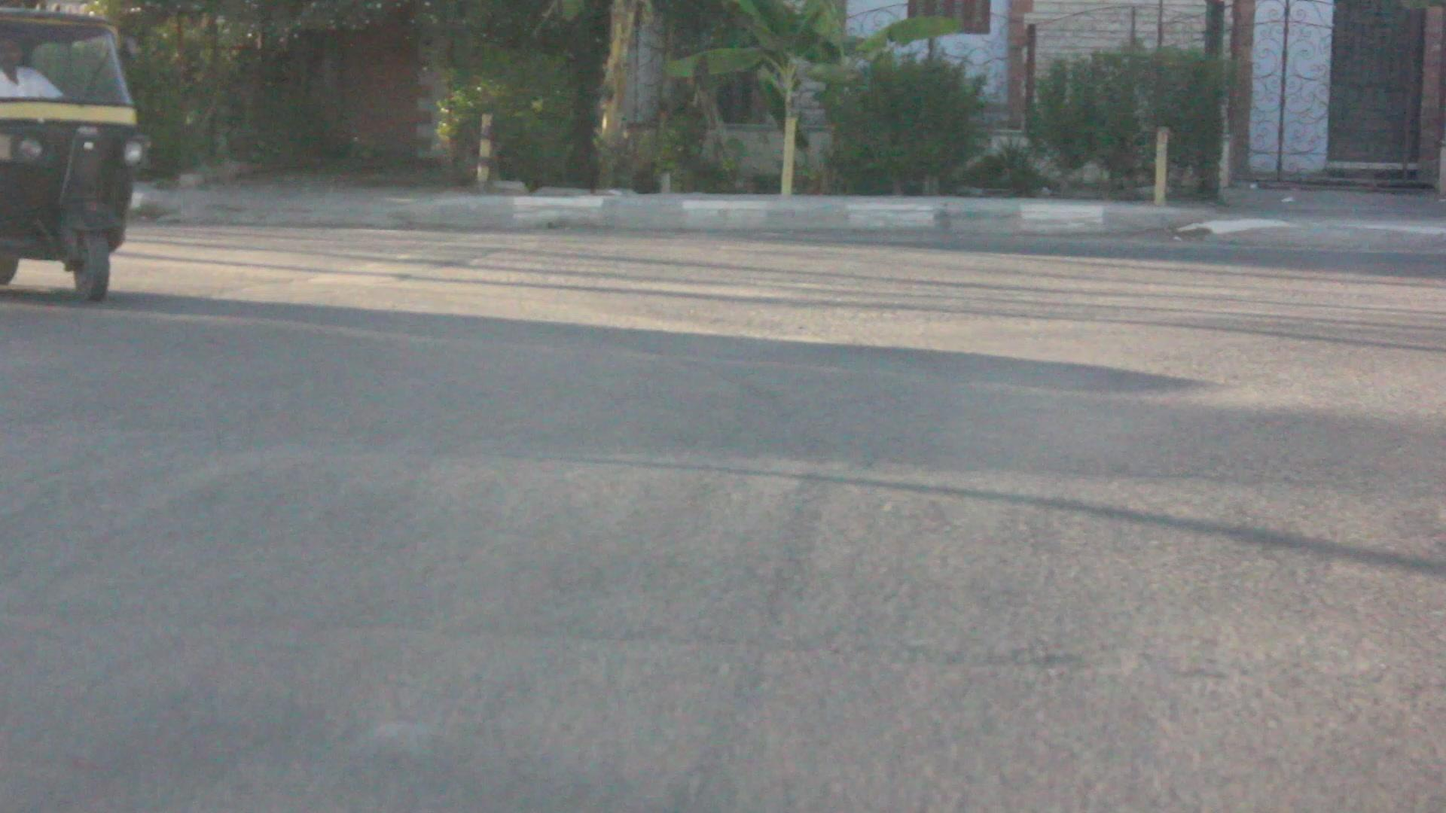Bump: (4, 437, 1446, 681)
